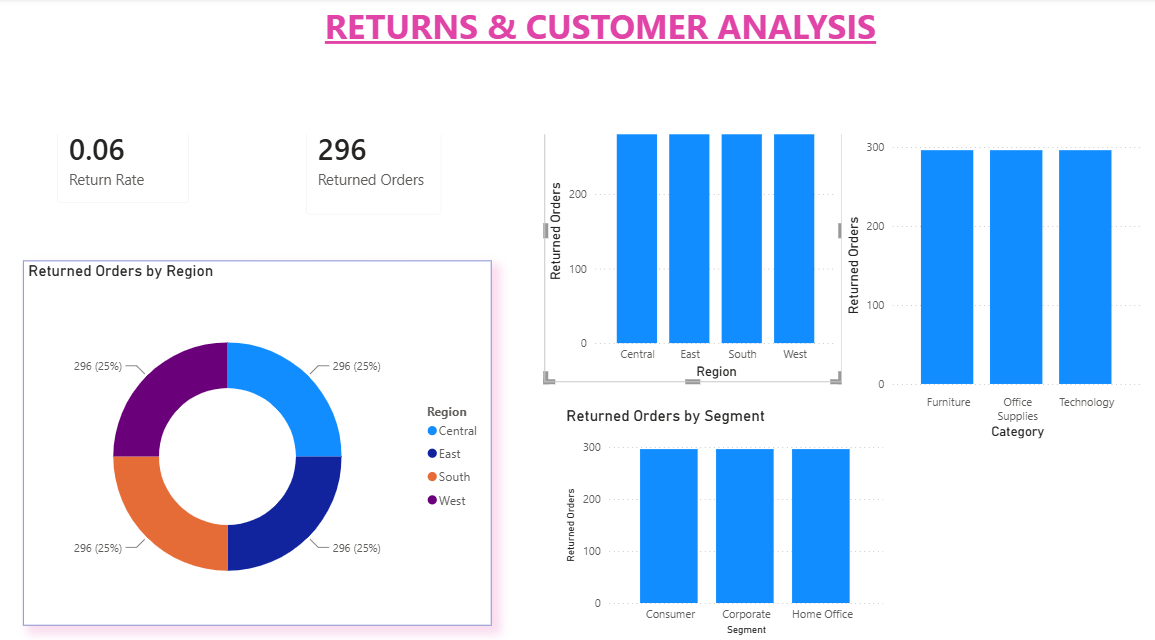

Layout of this report page (visuals, bound fields, positions):
{"tool":"powerbi","page":{"name":"Returns & Customer Analysis","canvas":[1280,720],"ordinal":1},"visuals":[{"type":"cardVisual","fields":{"Data":["Orders.Returned Orders"]},"box":[326.6,96.1,183.9,159.2],"z":0},{"type":"cardVisual","fields":{"Data":["Orders.Return Rate"]},"box":[53.5,108.4,179.8,134.5],"z":1000},{"type":"clusteredColumnChart","fields":{"Category":["Orders.Region"],"Y":["Orders.Returned Orders"]},"box":[605.1,89.2,326.6,333.4],"z":2000},{"type":"clusteredColumnChart","fields":{"Category":["Orders.Category"],"Y":["Orders.Returned Orders"]},"box":[931.7,119.4,334.8,369.1],"z":3000},{"type":"clusteredColumnChart","fields":{"Category":["Orders.Segment"],"Y":["Orders.Returned Orders"]},"box":[624.4,448.7,358.1,255.2],"z":4000},{"type":"donutChart","fields":{"Category":["Orders.Region"],"Y":["Orders.Returned Orders"]},"box":[32.9,288.2,514.6,400.7],"z":5000},{"type":"textbox","box":[53.5,0,1226.8,149.6],"z":6000}]}

Visuals, with their boxes in screenshot pixels (x1, y1, x2, y2), scaled from the page's 1280x720 canvas onto the 1155x640 screenshot:
cardVisual - Orders.Returned Orders: region(295, 85, 461, 227)
cardVisual - Orders.Return Rate: region(48, 96, 211, 216)
clusteredColumnChart - Orders.Region x Orders.Returned Orders: region(546, 79, 841, 376)
clusteredColumnChart - Orders.Category x Orders.Returned Orders: region(841, 106, 1143, 434)
clusteredColumnChart - Orders.Segment x Orders.Returned Orders: region(563, 399, 887, 626)
donutChart - Orders.Region x Orders.Returned Orders: region(30, 256, 494, 612)
textbox: region(48, 0, 1154, 133)
